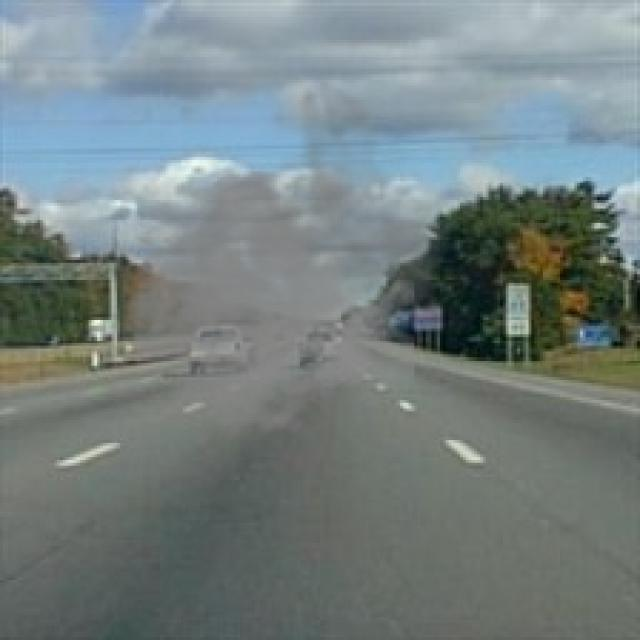Smoke: (100, 74, 457, 443)
